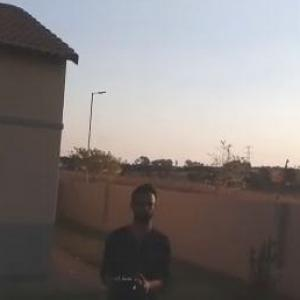follow: (94, 172, 176, 299)
